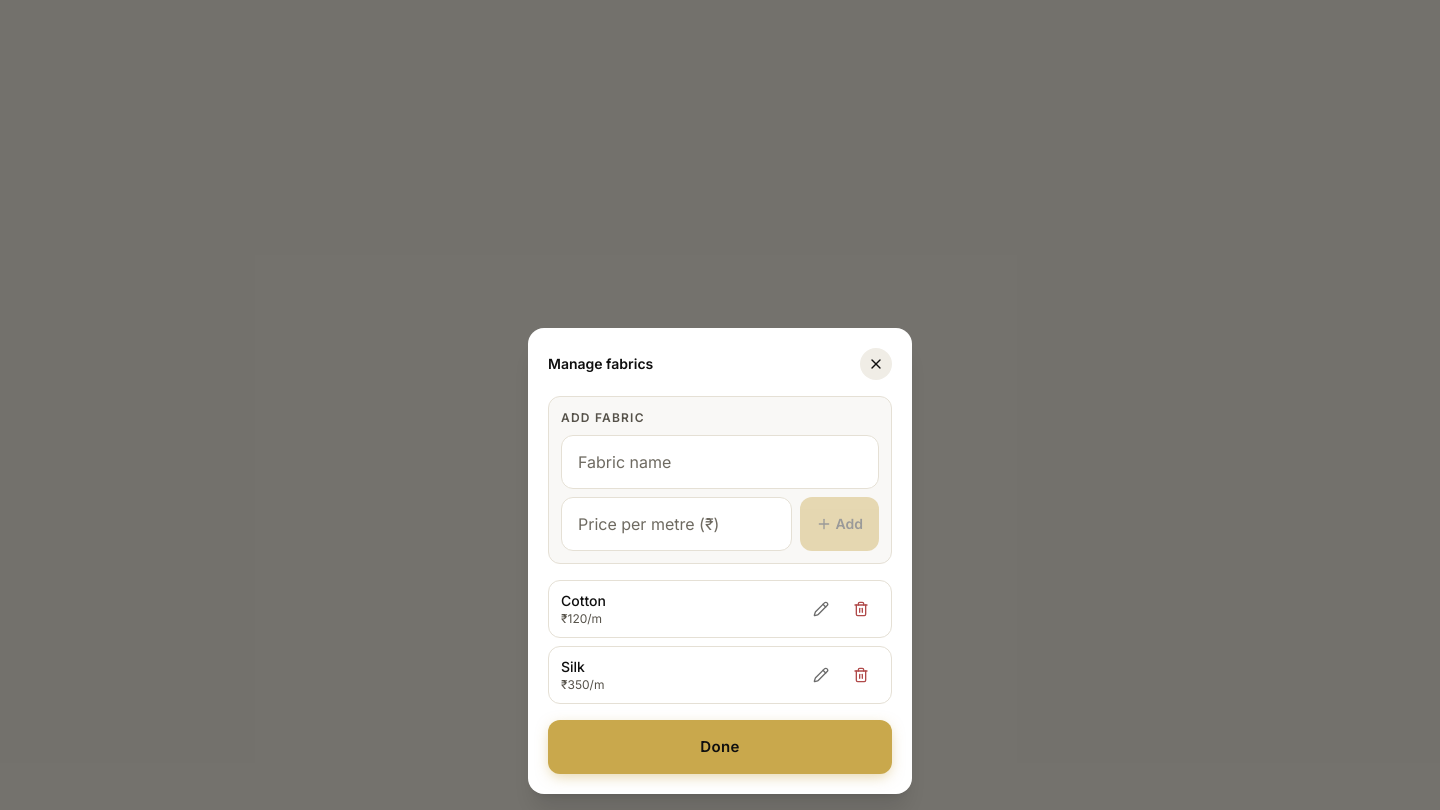
FabricManagerSheet › keeps the fabric and shows the error when deletion fails
Click the button named "Delete Cotton".
click(861, 608)  # box [843,590,879,626]
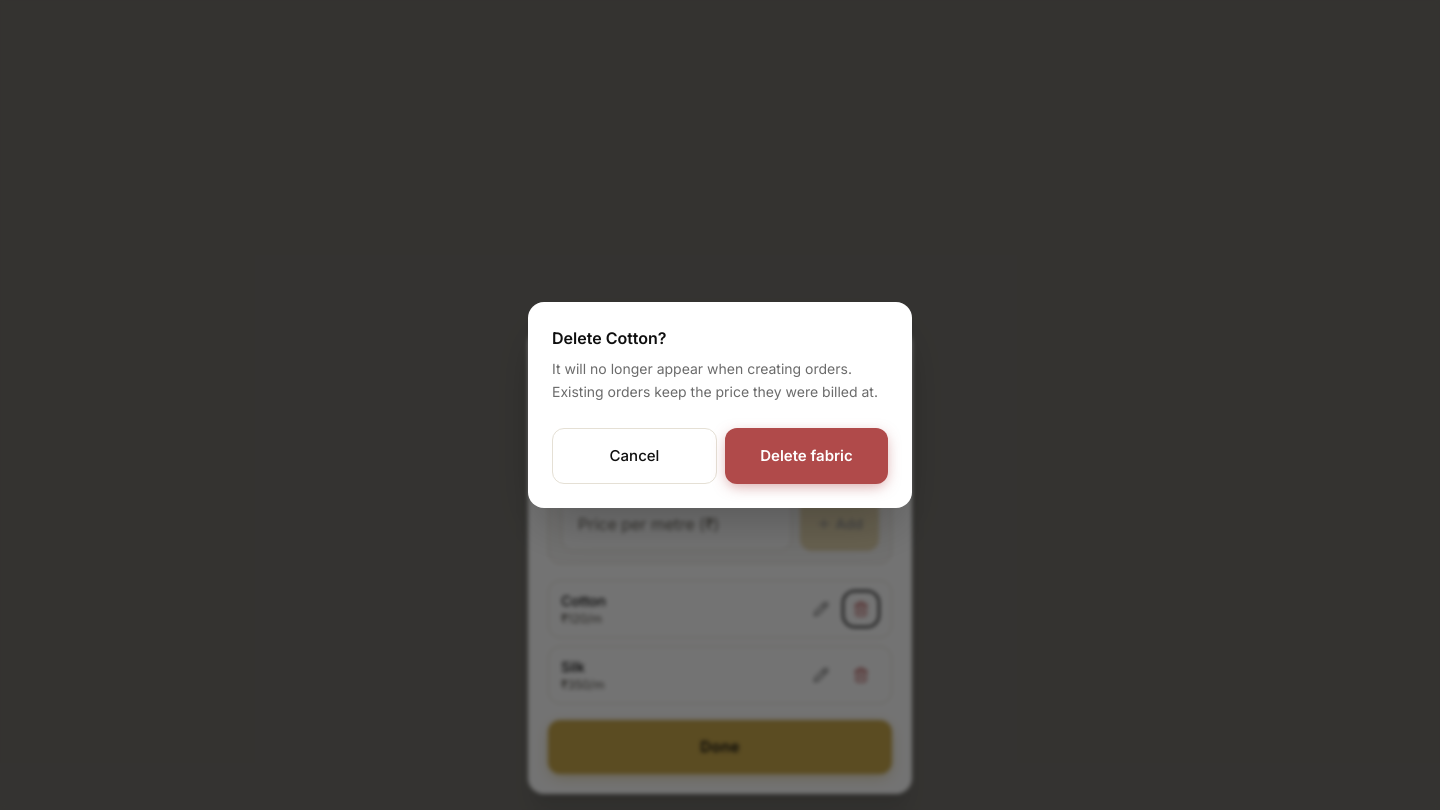
Click the button "Delete fabric".
click(806, 456)  # box [725,428,888,484]
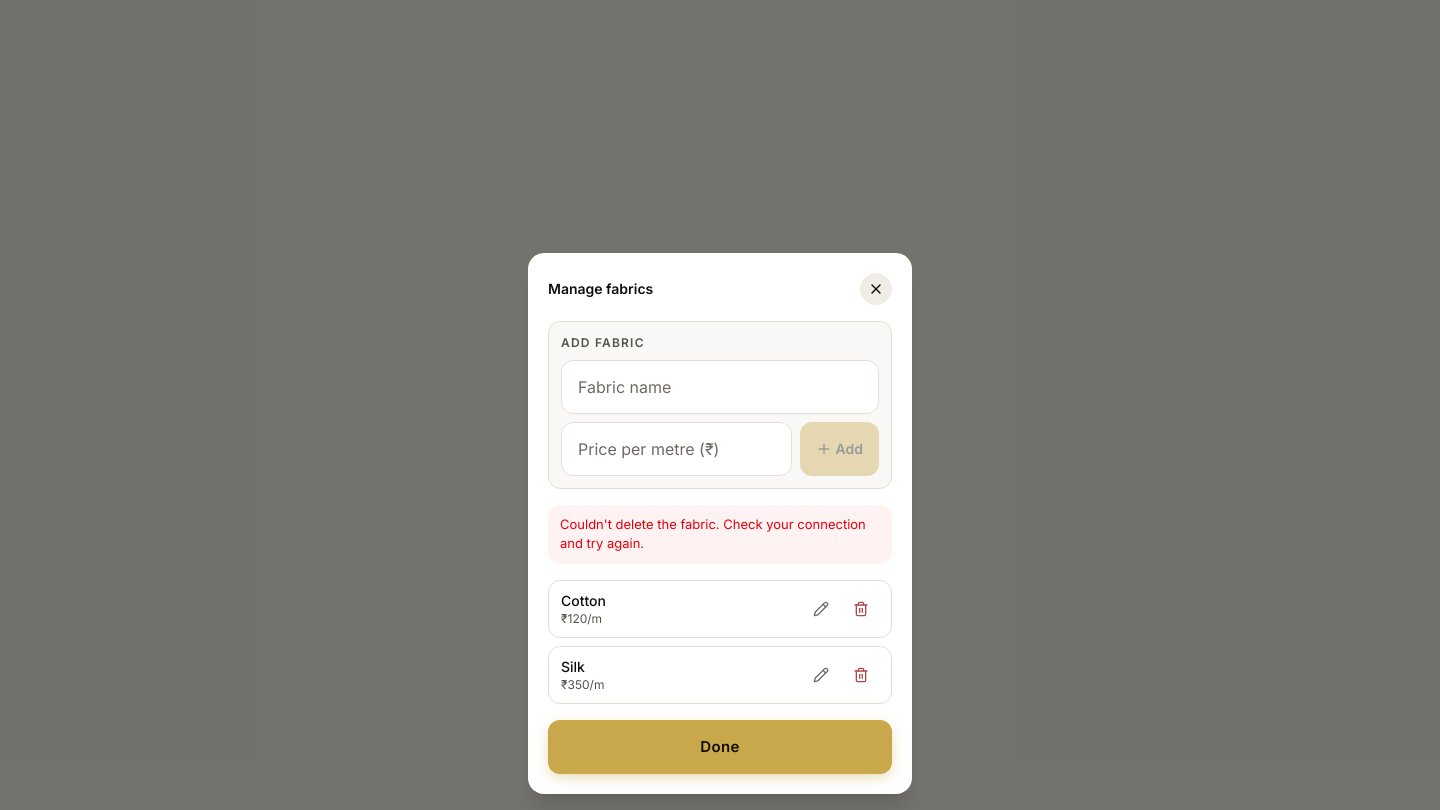
Check: the message shows "Couldn't delete the fabric", box [560,516,866,551]
